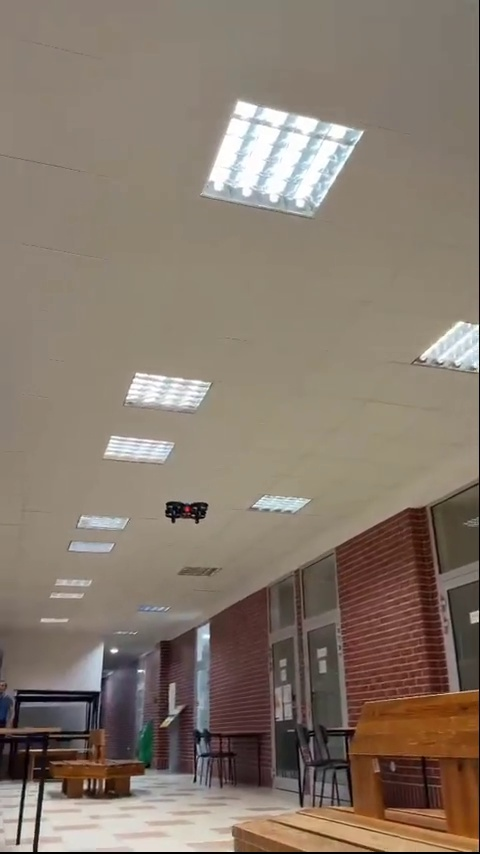drone: (166, 495, 211, 519)
